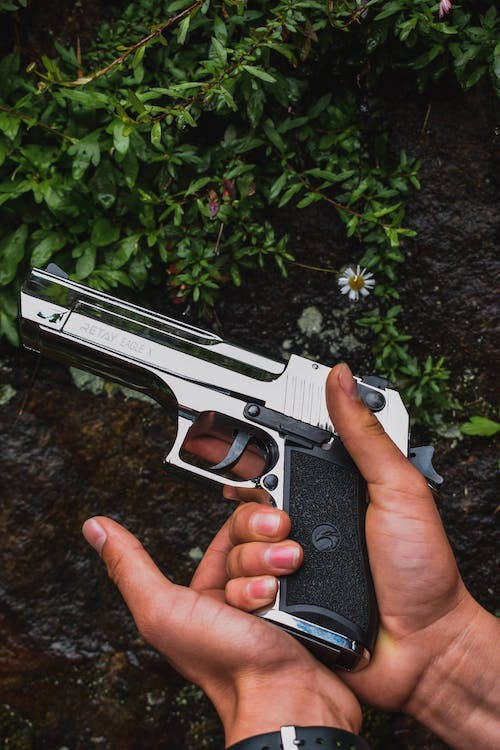gun: (0, 263, 449, 672)
